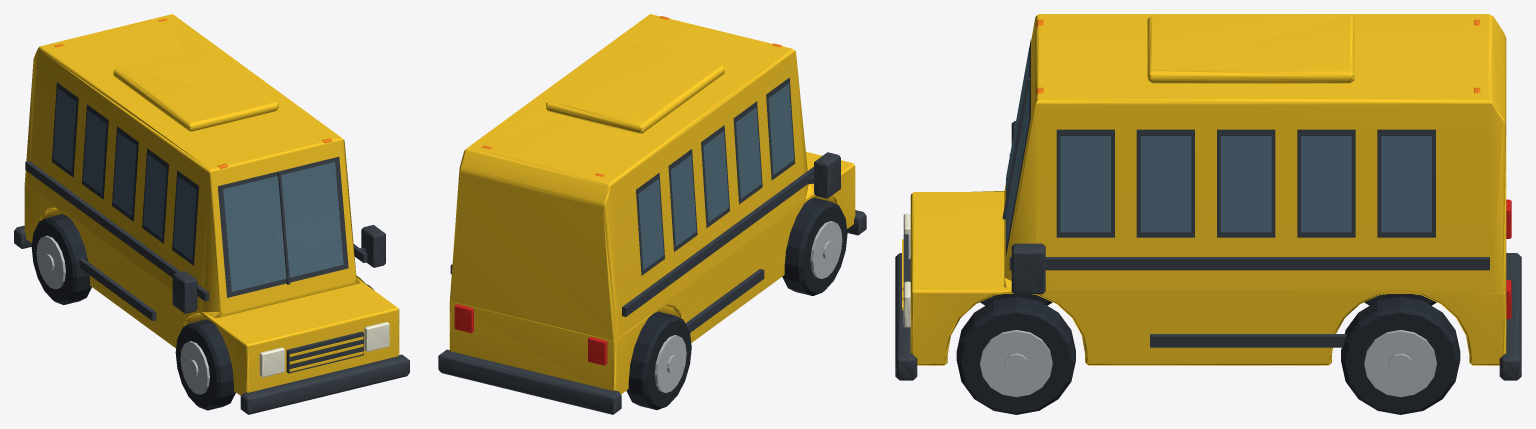
Rendered from School_Bus.fbx.
3 views of the same model, side by side, from view 1: azimuth 30°, elevation 25°; view 2: azimuth 150°, elevation 25°; view 3: azimuth 270°, elevation 25° (orthographic). The views are drawn at different scales.
Parts seen in each view (by area): view 1: Asset_School_Bus; view 2: Asset_School_Bus; view 3: Asset_School_Bus.
Boxes of the visible parts, x1=… form: Asset_School_Bus: x1=14, y1=14, x2=409, y2=414; Asset_School_Bus: x1=438, y1=14, x2=866, y2=414; Asset_School_Bus: x1=895, y1=14, x2=1521, y2=414.
Bounding box in the file's own units: 2.57 × 2.88 × 5.15.
